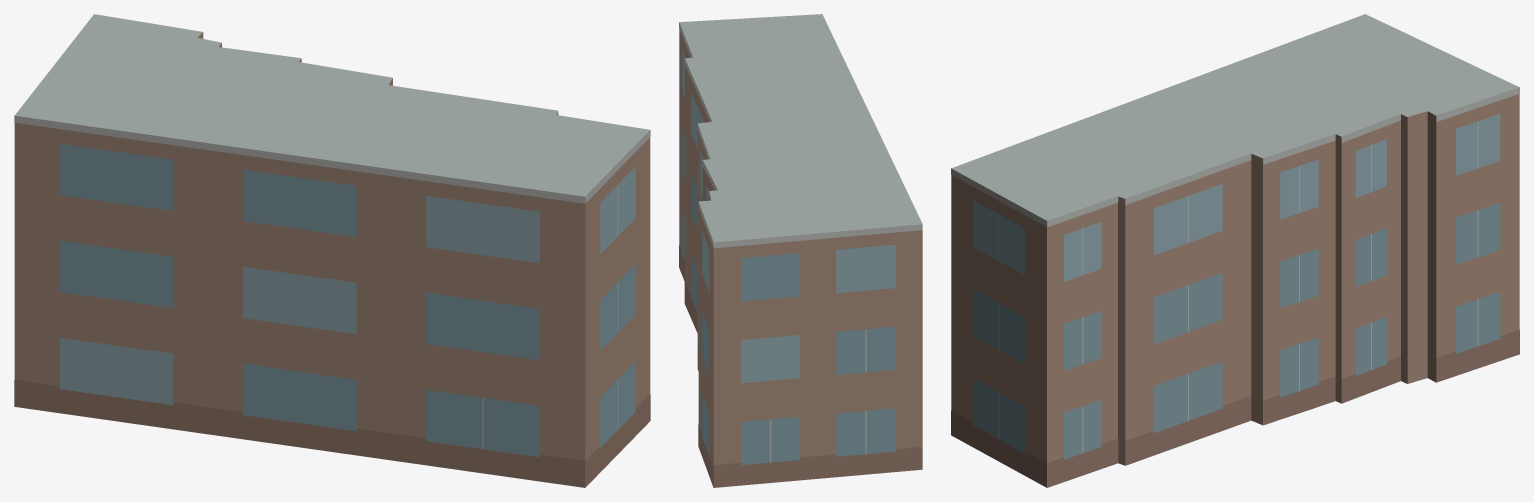
Rendered from survey-upis-32995961.glb.
The picture shows the model from 3 angles, left to right: view 1: azimuth 30°, elevation 25°; view 2: azimuth 150°, elevation 25°; view 3: azimuth 270°, elevation 25°; orthographic projection. The views are drawn at different scales.
Parts seen in each view (by area): view 1: survey-upis-32995961.tmp; view 2: survey-upis-32995961.tmp; view 3: survey-upis-32995961.tmp.
Boxes of the visible parts, bbox=[...] form: survey-upis-32995961.tmp: bbox=[14, 14, 650, 487]; survey-upis-32995961.tmp: bbox=[679, 14, 922, 487]; survey-upis-32995961.tmp: bbox=[951, 14, 1519, 487].
Size of the model in its own units: 16.97 by 10.2 by 19.7.
